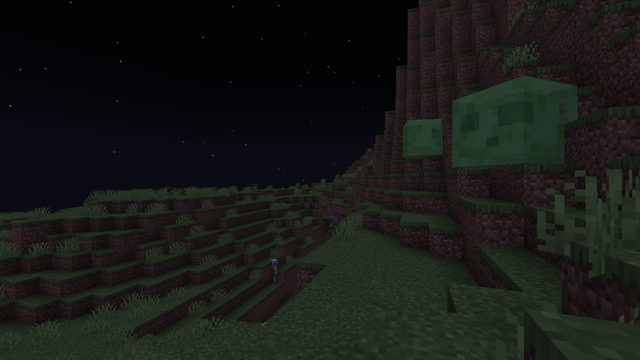araignees: (167, 186, 188, 195)
slimes: (460, 70, 579, 167), (403, 116, 443, 158)
squelettes: (269, 258, 277, 281)
